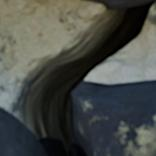brick: (88, 0, 151, 7)
broken_brick: (73, 79, 155, 155), (0, 105, 15, 155)
crack: (1, 0, 155, 155)
